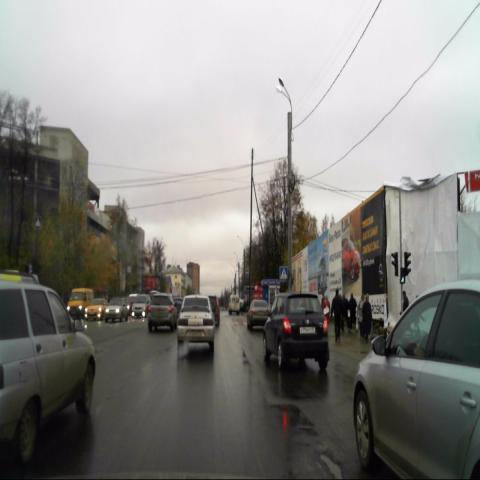5_19_1: (280, 266, 288, 281)
